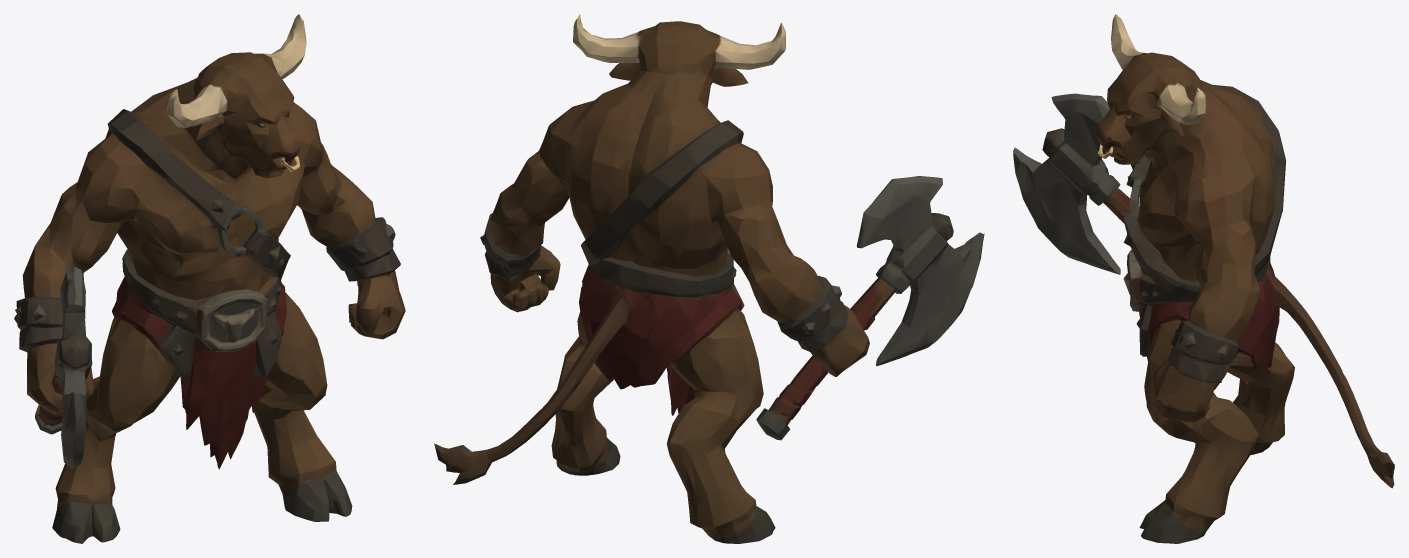
File: minotaur.glb
3 views of the same model, side by side, from view 1: azimuth 30°, elevation 25°; view 2: azimuth 150°, elevation 25°; view 3: azimuth 270°, elevation 25° (orthographic). The views are drawn at different scales.
Visible parts, largest first — view 1: minotaur; view 2: minotaur; view 3: minotaur.
Part boxes in pixels (bbox=[...]): minotaur: bbox=[14, 14, 405, 543]; minotaur: bbox=[434, 14, 984, 543]; minotaur: bbox=[1013, 14, 1394, 543].
Size of the model in its own units: 0.9163 by 1 by 0.7829.
Materials: 1 (1 with a texture image).
